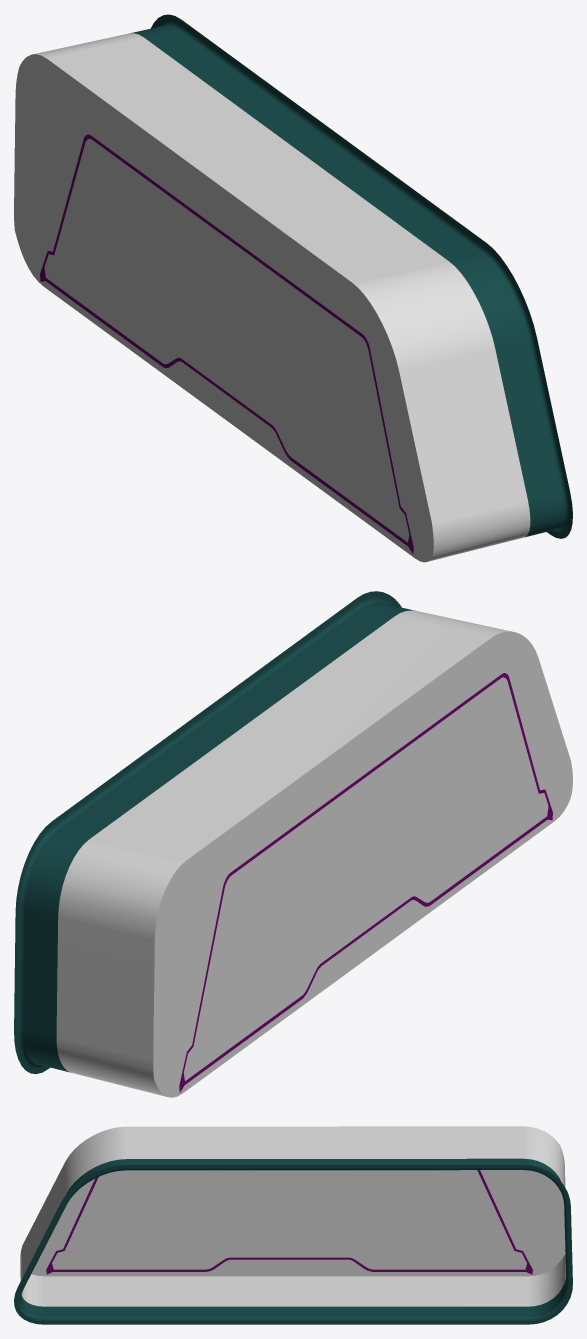
The model's file is FloatingAptInsets02_mesh.fbx.
3 views of the same model, one above another, from view 1: azimuth 30°, elevation 25°; view 2: azimuth 150°, elevation 25°; view 3: azimuth 270°, elevation 25° (orthographic). The views are drawn at different scales.
Parts seen in each view (by area): view 1: FloatingAptInsets02_mesh; view 2: FloatingAptInsets02_mesh; view 3: FloatingAptInsets02_mesh.
Boxes of the visible parts, x1,y1,x2,y2 form: FloatingAptInsets02_mesh: (14, 14, 572, 562); FloatingAptInsets02_mesh: (14, 591, 572, 1097); FloatingAptInsets02_mesh: (14, 1126, 572, 1324).
Size of the model in its own units: 29.17 by 50.8 by 161.
